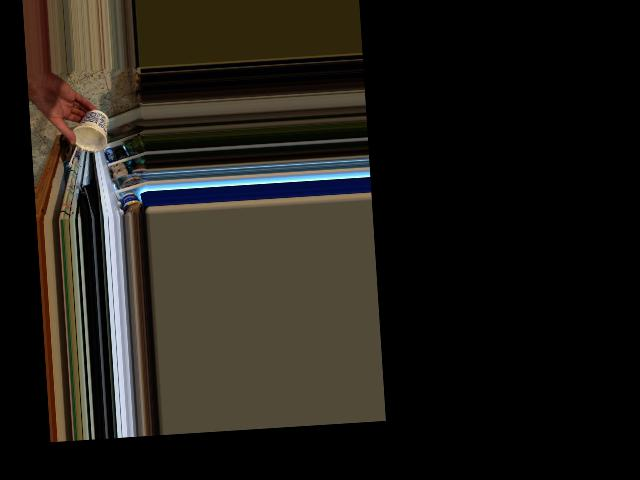cotage: (72, 109, 107, 153)
